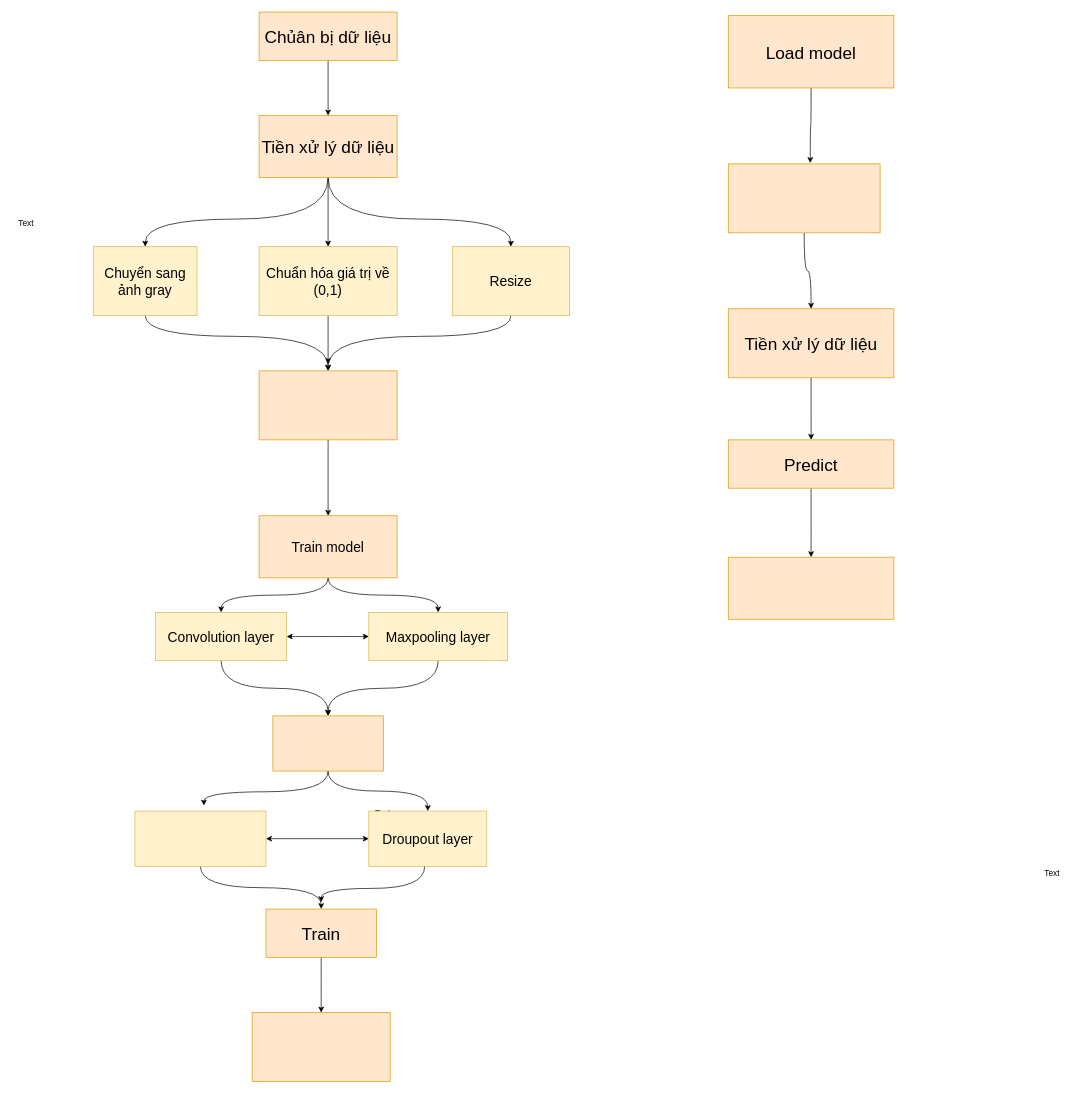
Image size: 1077x1094. Some labels were removed from this diagram. The shapes that lost their labels are listed below. From the top down, each one's centre as x and y in pixels, then its label:
(804,198): Load dữ liệu
(327,405): Khởi tạo Tập train và tập test
(811,587): visualize prediction
(327,743): Flatten layer
(200,838): Dense layer
(321,1047): Lưu file model và file weight
